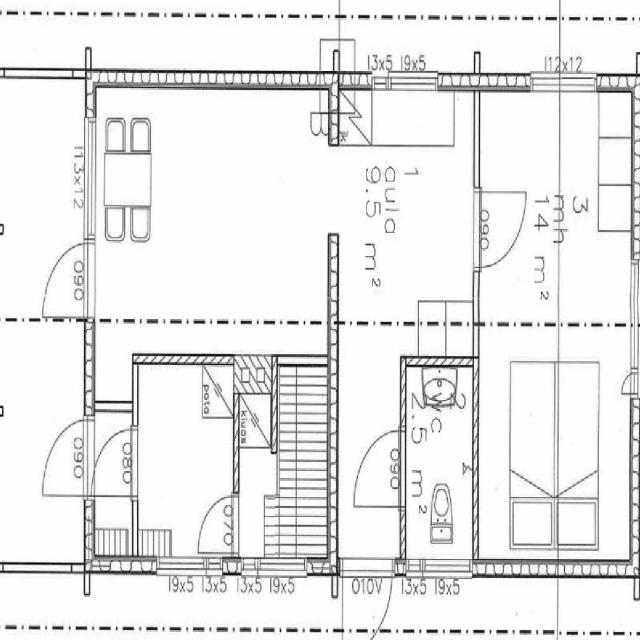door: (40, 419, 96, 495), (342, 559, 392, 640), (41, 243, 96, 316), (354, 431, 406, 507), (473, 192, 524, 266), (97, 435, 138, 495), (199, 495, 239, 553)
